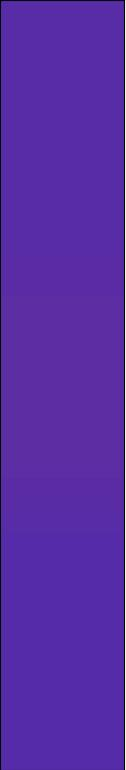safe: (8, 11, 115, 755)
